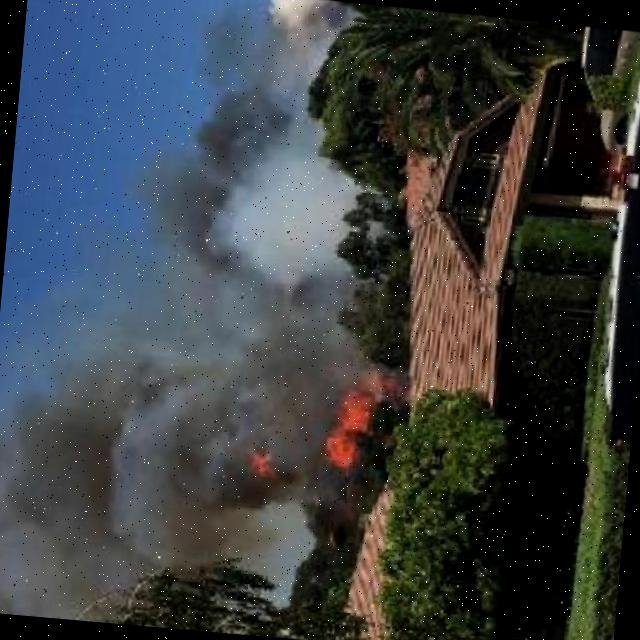fire: (312, 336, 385, 472), (243, 447, 280, 485)
